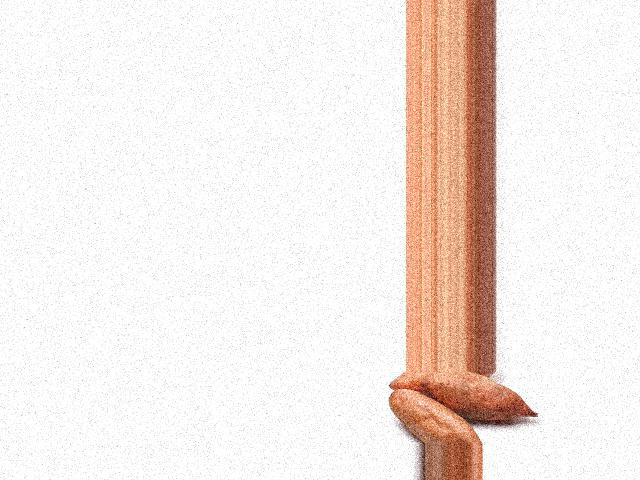sweet_potato: (388, 390, 487, 444)
